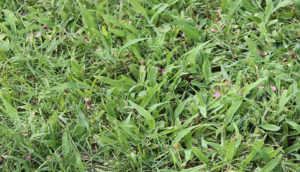crabgrass: (60, 30, 273, 172)
